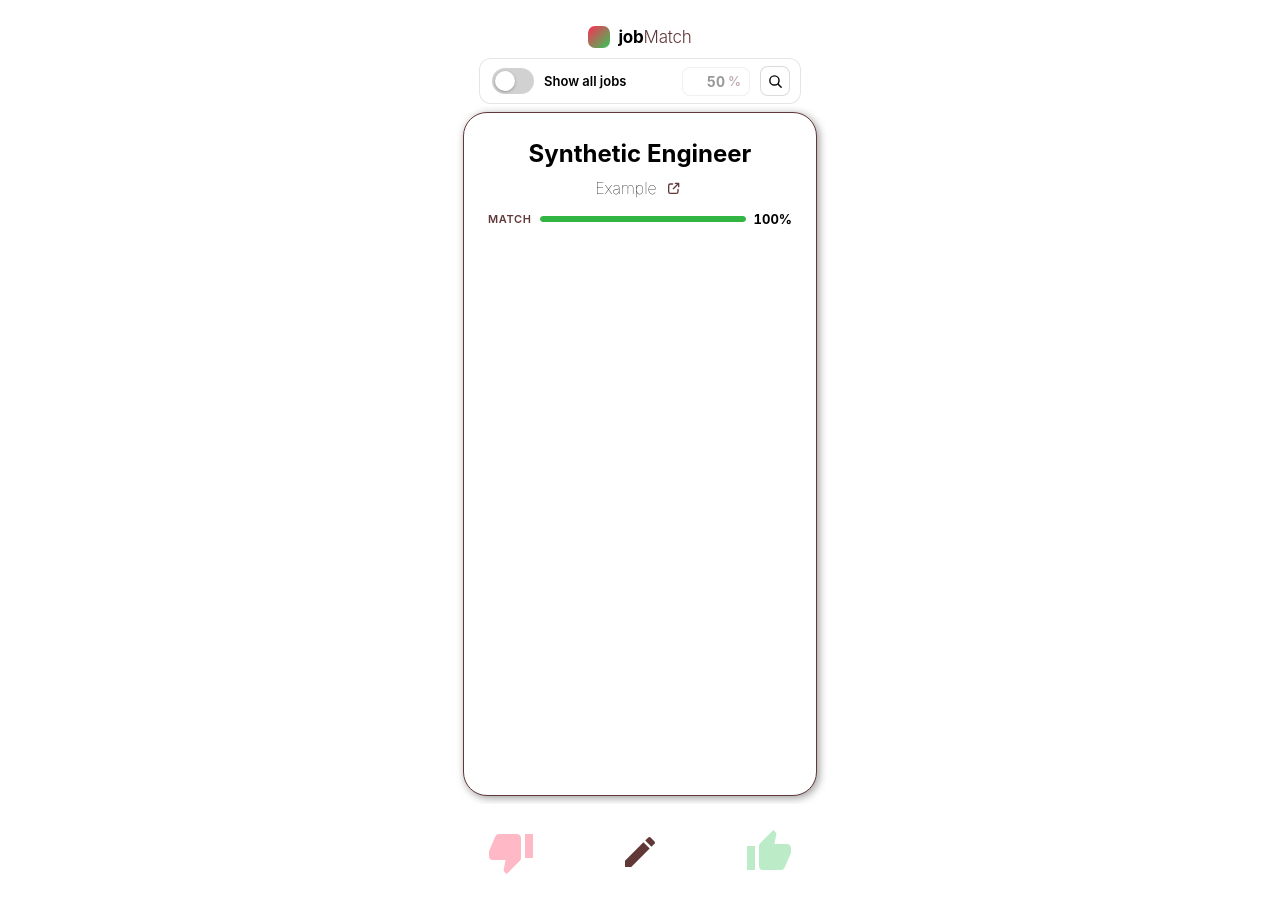
Test: nested revision Escape in the full MatchPage › clears instruction state before a newly selected form is opened
Click the button with class "like-container__button--edit". click: (640, 852)
box: [616,828,664,876]
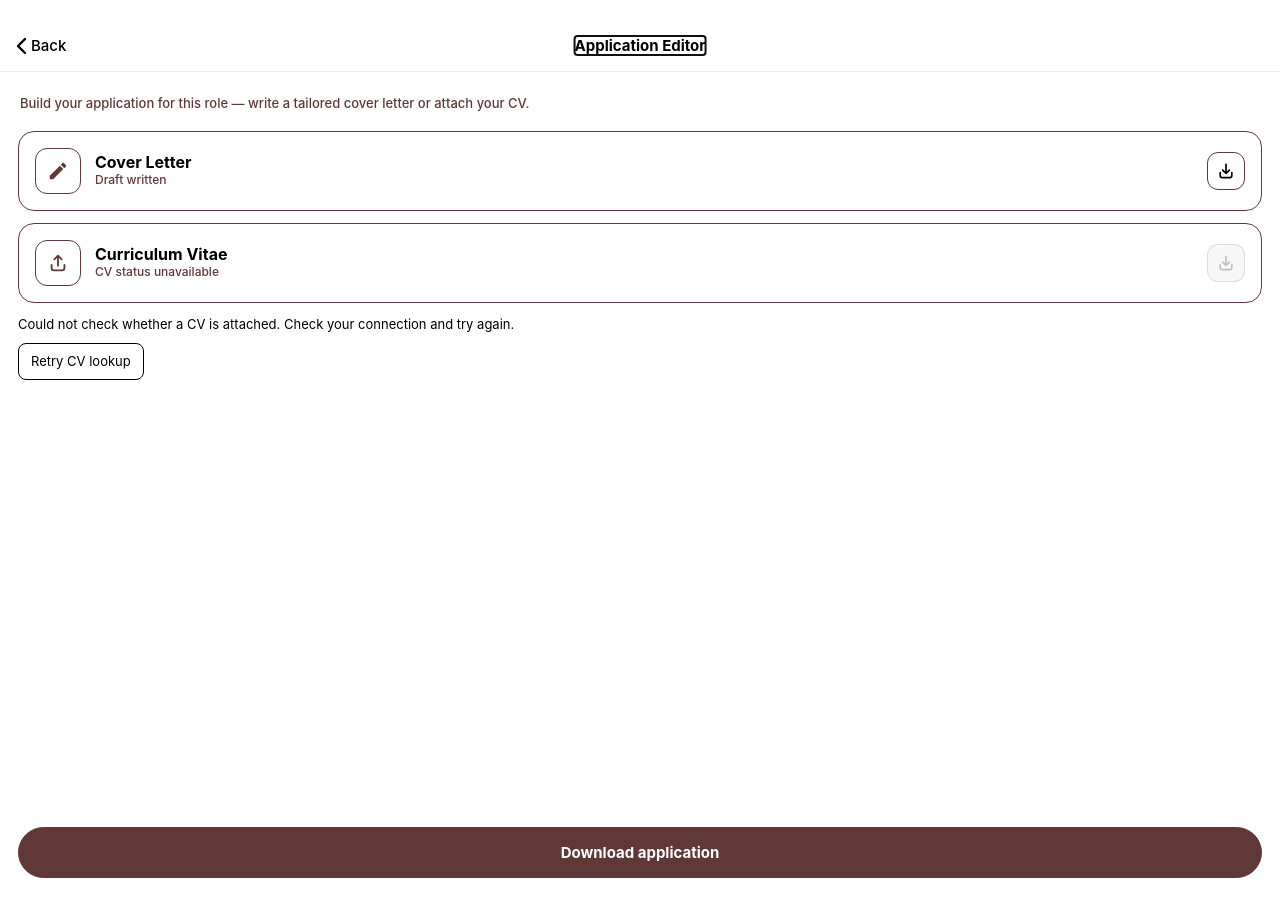
Click the button with class "cl-action__row" showing "Cover Letter Draft written". click: (58, 171)
box: [35,148,1197,194]
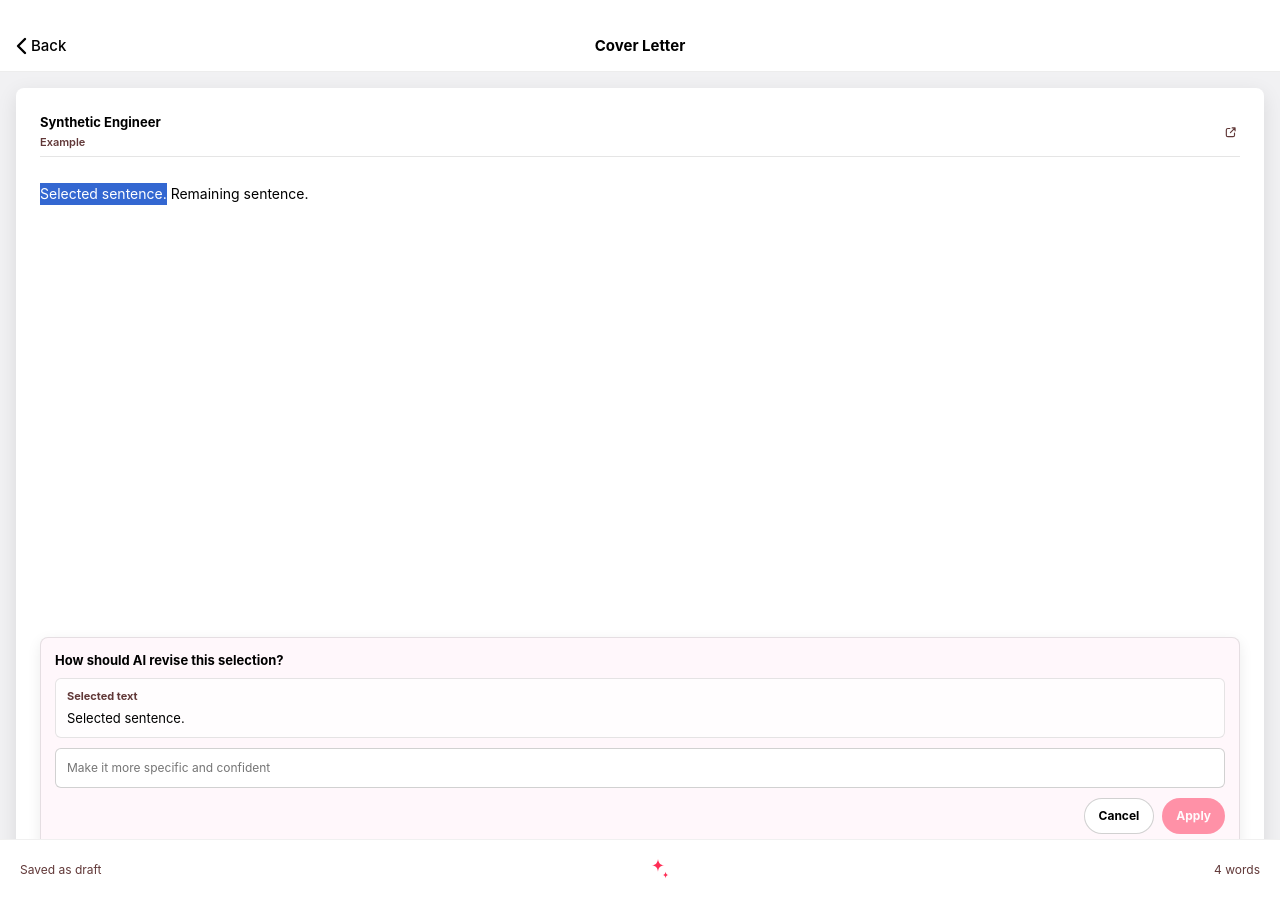
Type "Make it clear." into the field with class "cl-revision__instruction". click: (640, 768)
box: [55,748,1225,788]
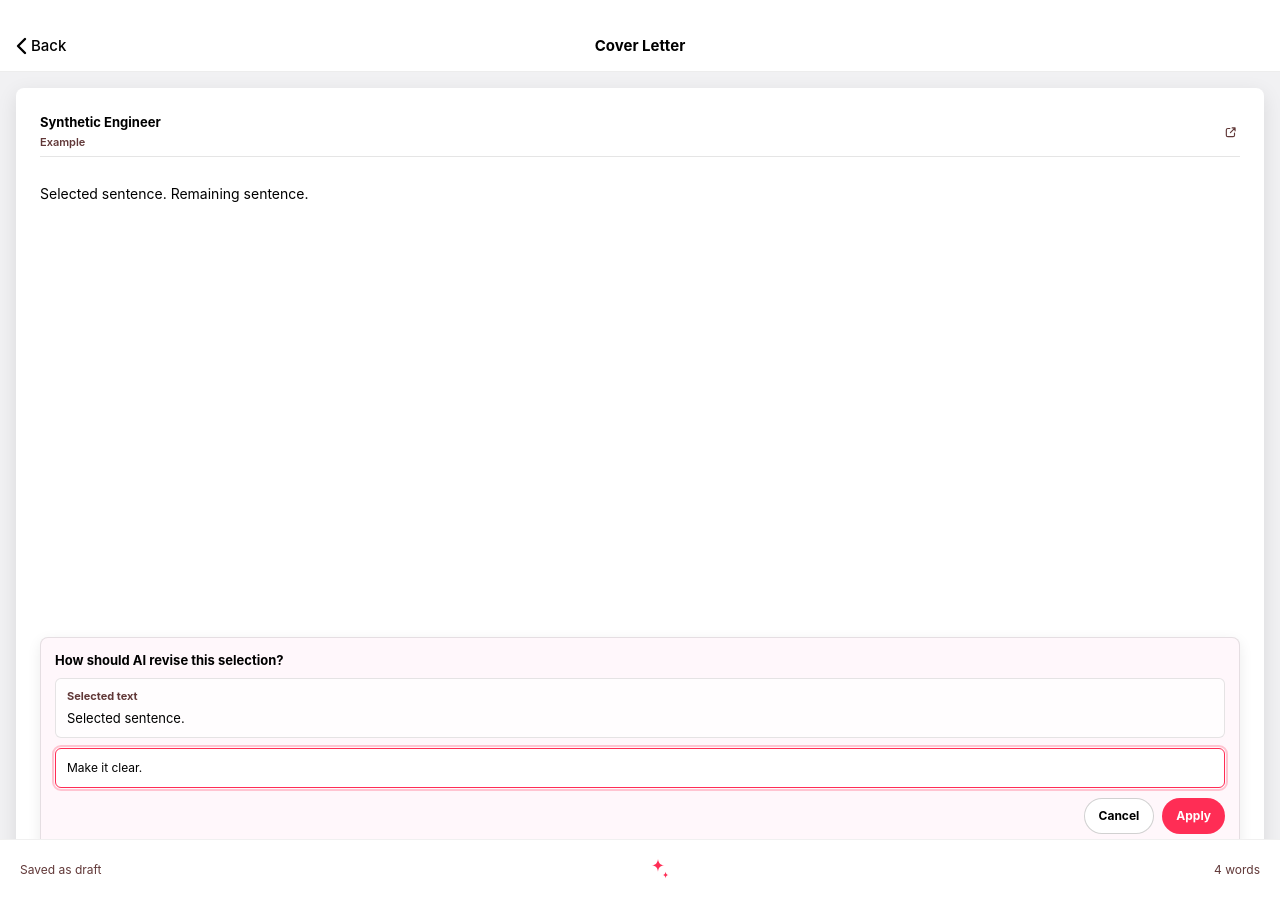
Press Escape in the text box with class "cl-textarea", box [40,173,1240,637]
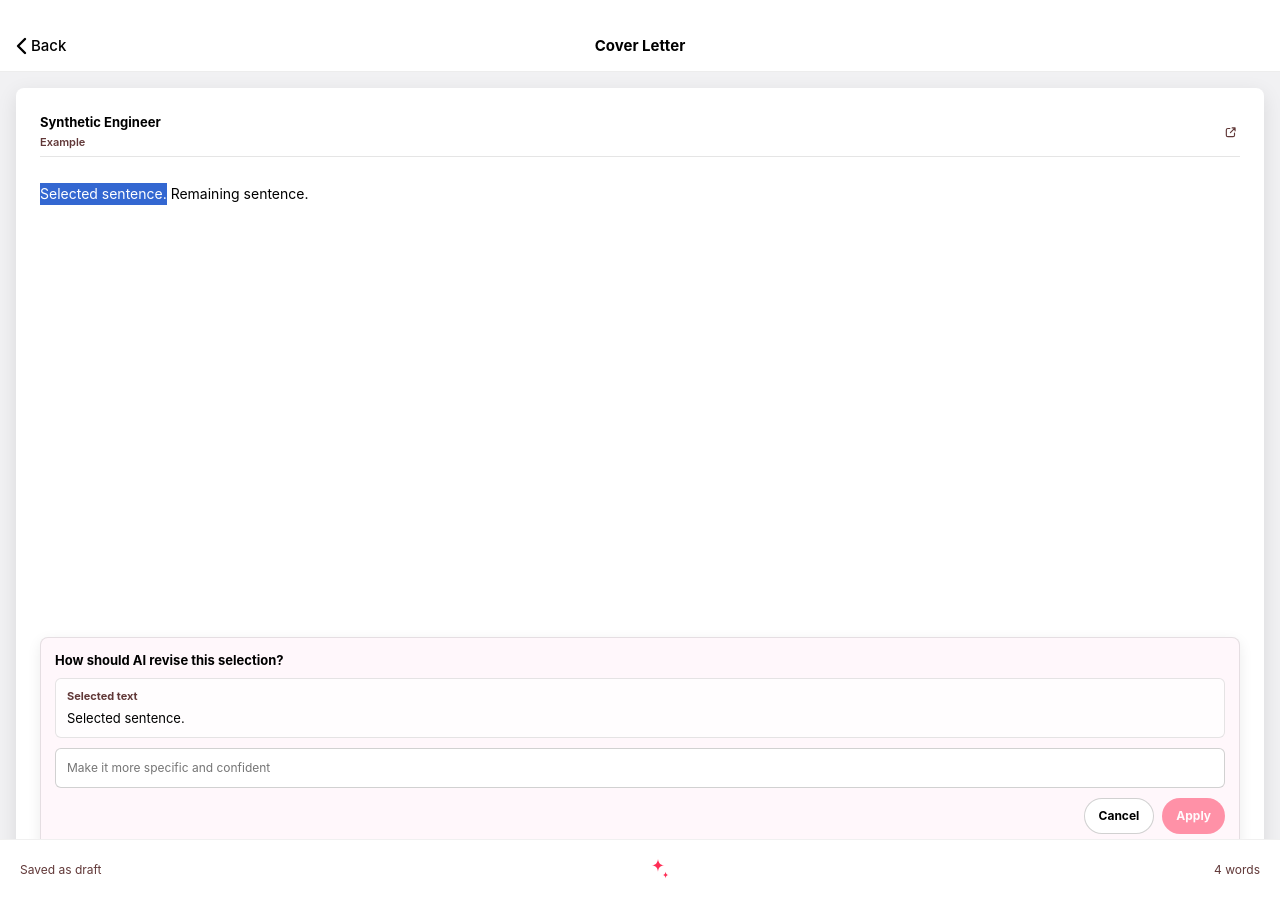
Check: the field with class "cl-revision__instruction" is empty, box [55,748,1225,788]
Check: the button with class "cl-revision__apply" is disabled, box [1162,798,1225,834]
